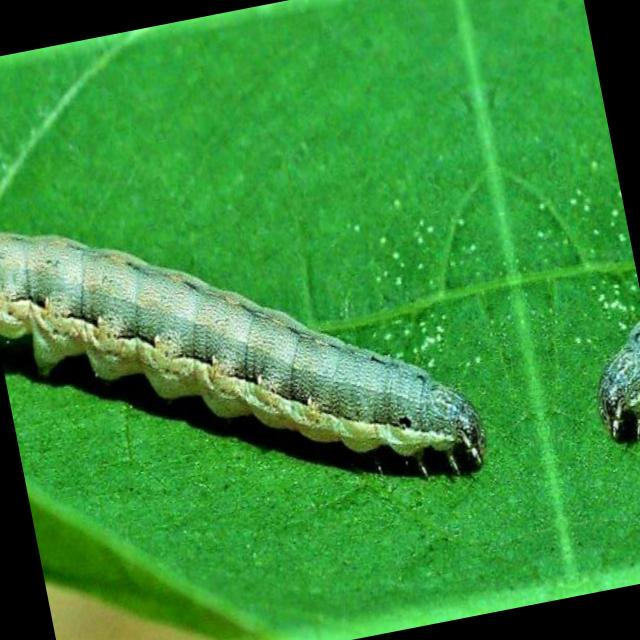Armyworm: (1, 81, 519, 623), (551, 277, 640, 505)
